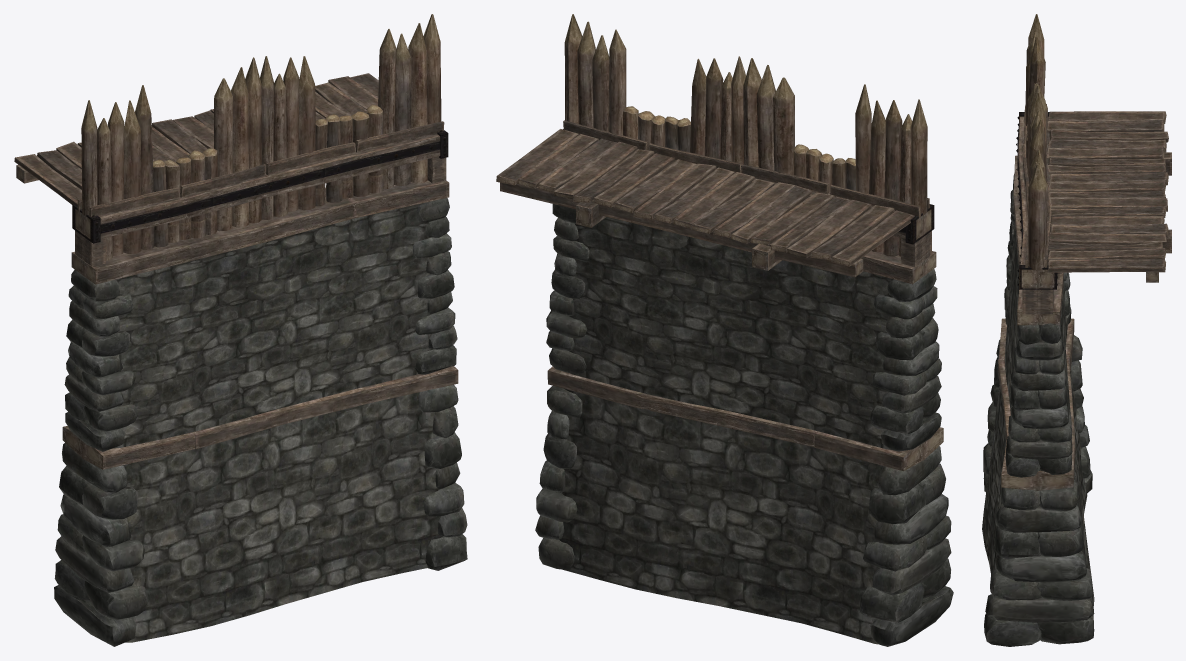
File: jav_struc_def_Stone_t2_rampart-transformed.glb
3 views of the same model, side by side, from view 1: azimuth 30°, elevation 25°; view 2: azimuth 150°, elevation 25°; view 3: azimuth 270°, elevation 25° (orthographic). The views are drawn at different scales.
Parts seen in each view (by area): view 1: default; view 2: default; view 3: default.
Boxes of the visible parts, x1=… form: default: x1=14, y1=14, x2=467, y2=646; default: x1=496, y1=14, x2=953, y2=646; default: x1=982, y1=14, x2=1171, y2=646.
Size of the model in its own units: 8.24 by 11.49 by 4.12.
Materials: 3 (3 with a texture image).
